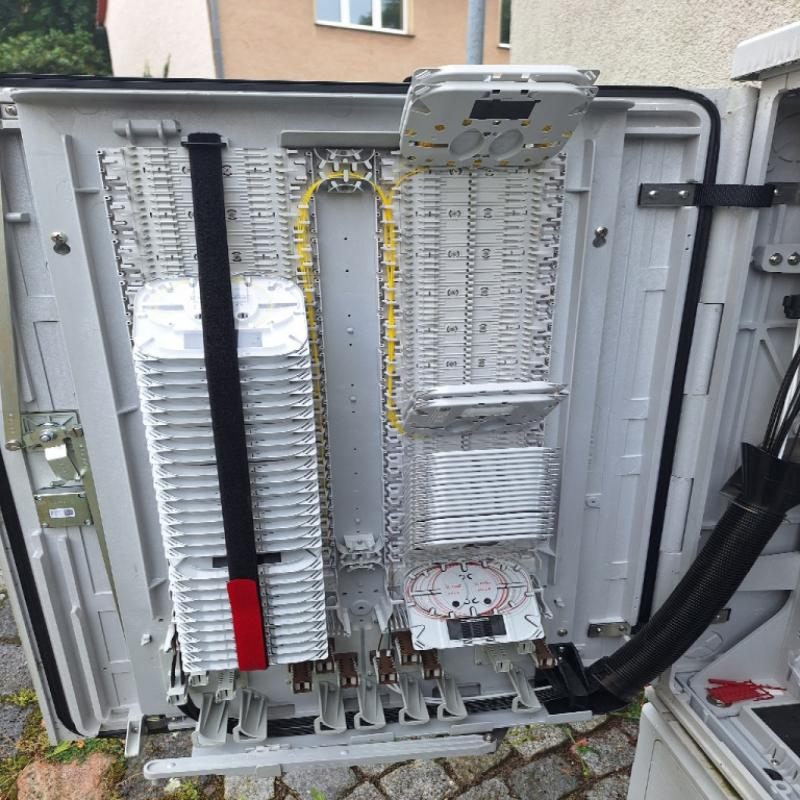NT-Gehause: (11, 28, 800, 800)
Spleiskassetten: (80, 133, 333, 671), (384, 64, 605, 653)
